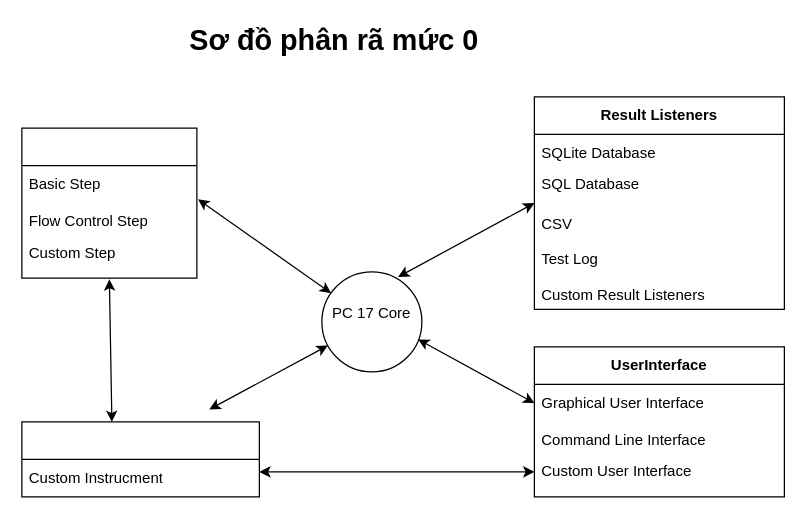
The diagram is 806 pixels wide and 519 high, and some of its shapes have lost their labels. Here are the shapes that lost their labels. From the top down, the box of each, then its label:
(21, 127, 197, 278): Test Step
(21, 421, 259, 497): Intrusment Plugin
